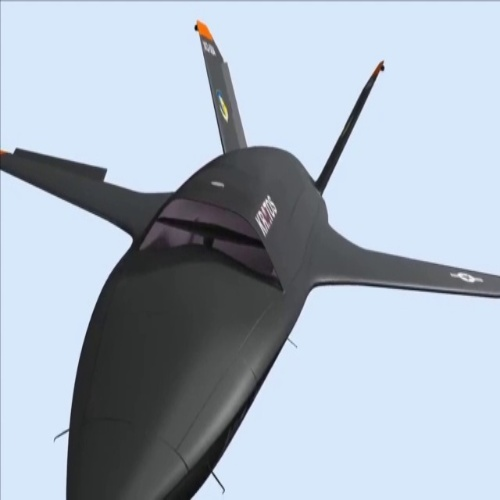uav970: (1, 17, 496, 496)
